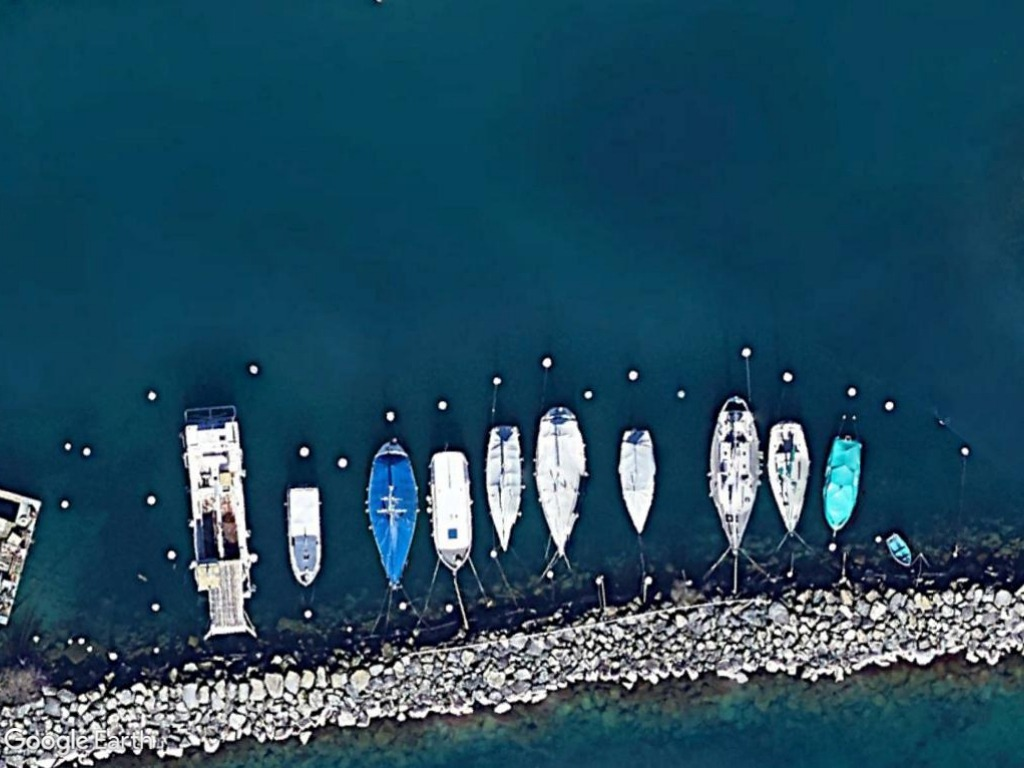boat: (357, 427, 422, 595), (530, 399, 593, 563), (703, 391, 762, 556), (422, 447, 478, 579), (480, 420, 525, 557), (610, 426, 661, 536), (767, 411, 810, 539), (818, 431, 865, 536), (281, 483, 326, 586), (884, 526, 919, 576)
